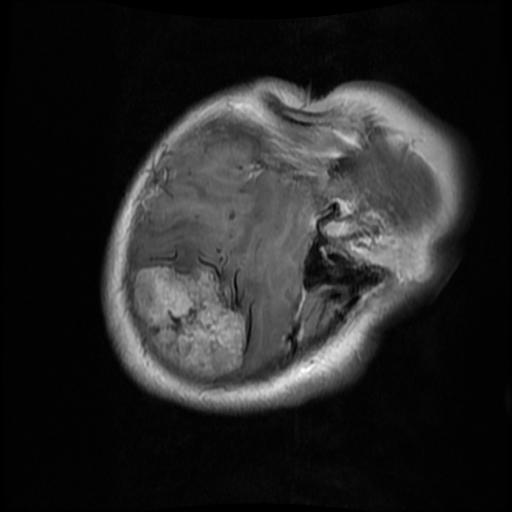meningioma: (134, 266, 247, 379)
